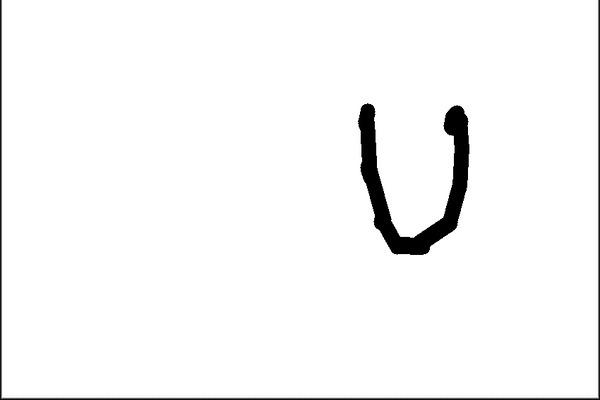U: (347, 97, 473, 259)
